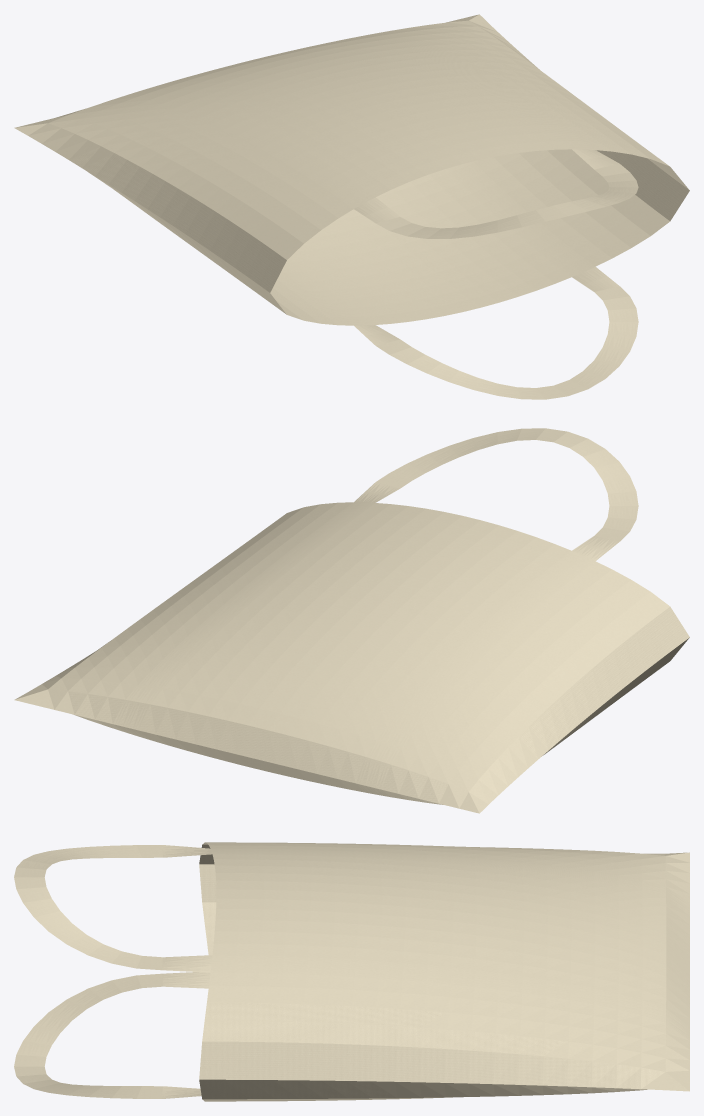
Rendered from two_panel_bag_wide_tall_coarse.obj.
The picture shows the model from 3 angles, top to bottom: view 1: azimuth 30°, elevation 25°; view 2: azimuth 150°, elevation 25°; view 3: azimuth 270°, elevation 25°; orthographic projection. The views are drawn at different scales.
Bounding box in the file's own units: 0.46 × 0.17 × 0.5498.
1 material, 1 textured.
